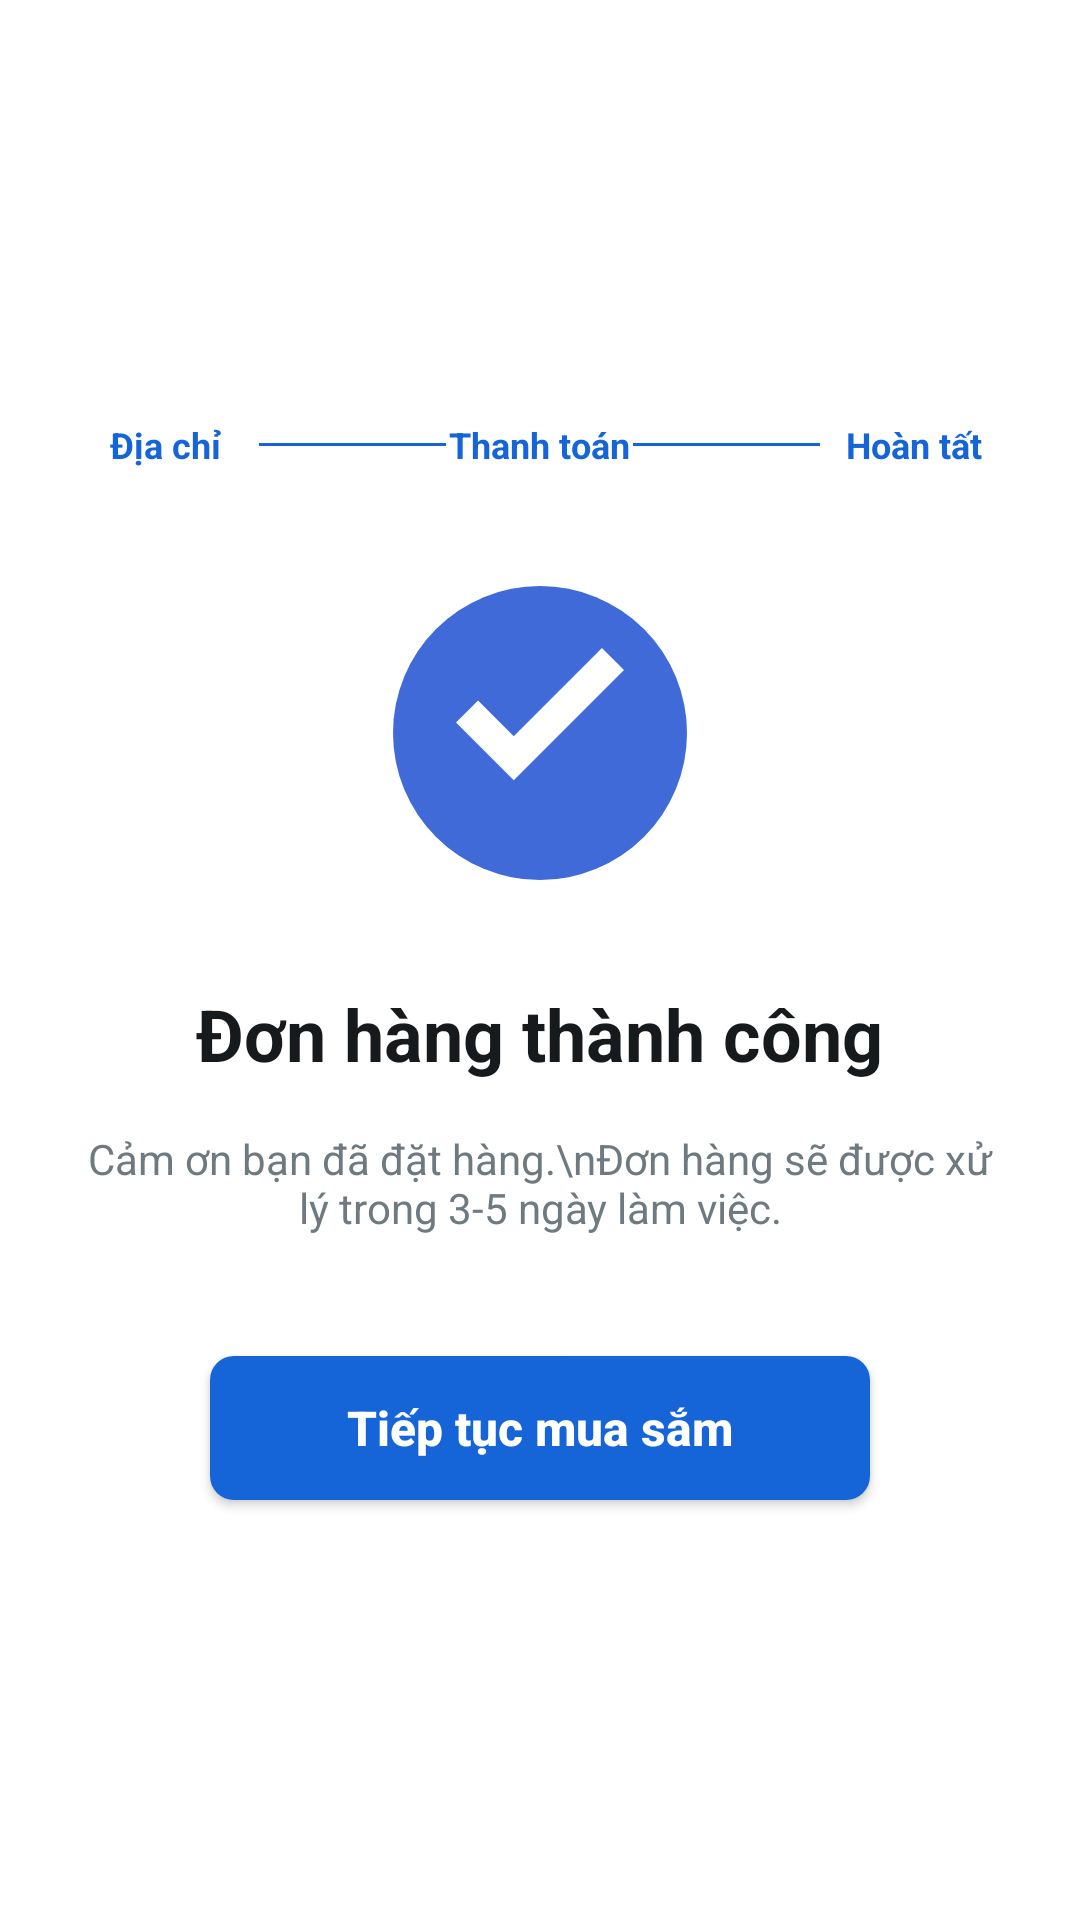

Where icons sit on this 1080px x 1920px app screen, as bbox(x1, y1, x2, y2):
Đặt hàng thành công: bbox(393, 586, 687, 880)
